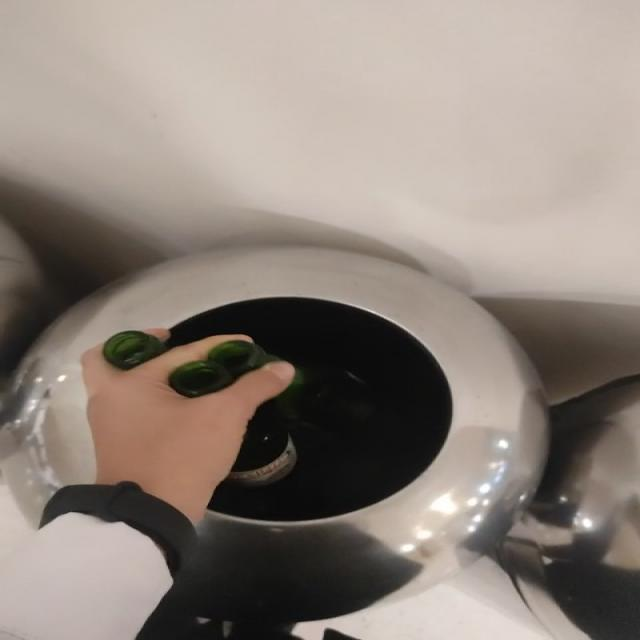Glass: (227, 366, 376, 488), (168, 340, 281, 398), (101, 331, 168, 370)
